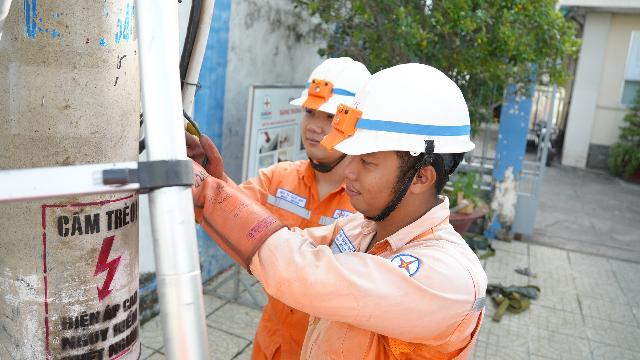gloves: (171, 144, 285, 274), (183, 113, 248, 197)
helmet: (345, 62, 476, 162), (280, 55, 364, 121)
